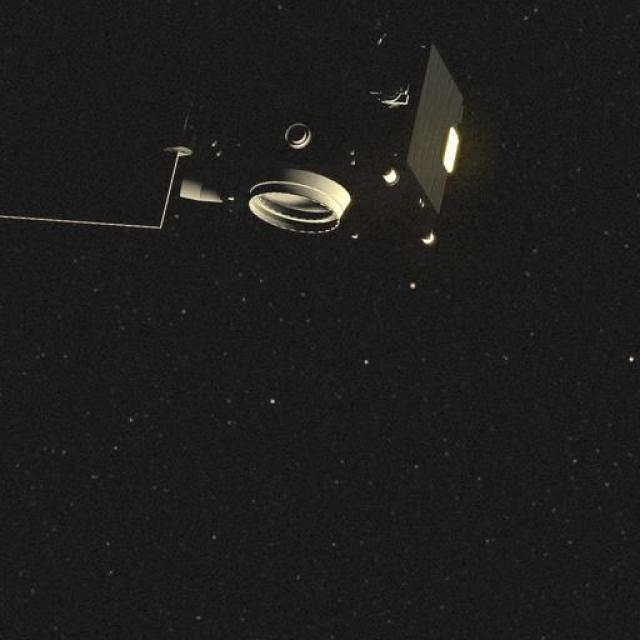proba_3_csc: (0, 25, 507, 278)
